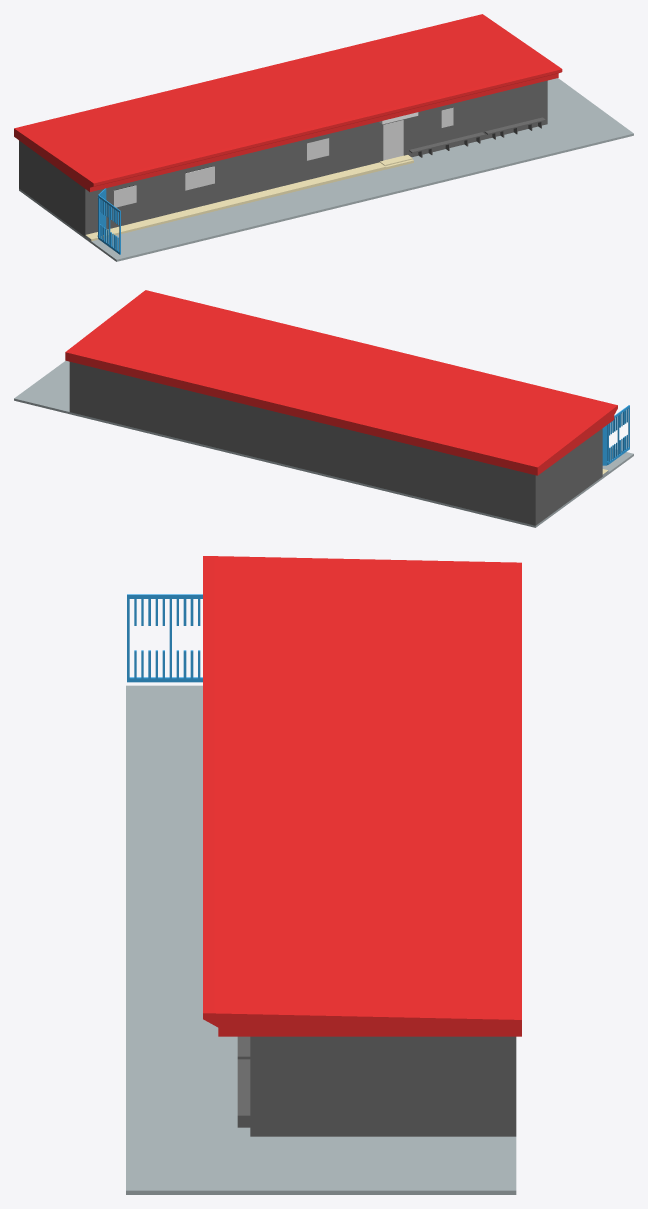
The model's file is PreSchool-Not-Textured-Indoors.fbx.
3 renders of one model, top to bottom at view 1: azimuth 30°, elevation 25°; view 2: azimuth 150°, elevation 25°; view 3: azimuth 270°, elevation 25°, orthographic. The views are drawn at different scales.
Parts seen in each view (by area): view 1: Plane.003, Wall, Floor, Bench, CTRL_Hole, DoubleDoor.005, CTRL_Hole.017, CTRL_Hole.001, CTRL_Hole.006; view 2: Plane.003, Wall, Floor, DoubleDoor.005; view 3: Plane.003, Floor, Wall, DoubleDoor.005, Bench, Gateframe.
Boxes of the visible parts, <box> form: Plane.003: <box>14,14,562,191</box>; Wall: <box>19,80,547,236</box>; Floor: <box>19,78,633,261</box>; Bench: <box>409,117,545,157</box>; CTRL_Hole: <box>383,120,403,160</box>; DoubleDoor.005: <box>100,199,118,251</box>; CTRL_Hole.017: <box>185,166,214,190</box>; CTRL_Hole.001: <box>306,138,329,160</box>; CTRL_Hole.006: <box>113,185,136,207</box>; Plane.003: <box>65,290,617,475</box>; Wall: <box>69,362,602,525</box>; Floor: <box>14,360,633,527</box>; DoubleDoor.005: <box>609,409,627,461</box>; Plane.003: <box>203,556,521,1036</box>; Floor: <box>126,685,516,1194</box>; Wall: <box>250,1036,516,1136</box>; DoubleDoor.005: <box>134,599,200,678</box>; Bench: <box>237,1036,250,1127</box>; Gateframe: <box>127,594,202,682</box>.
Size of the model in its own units: 3390 by 405 by 1116.
Materials: 4 (1 with a texture image).
